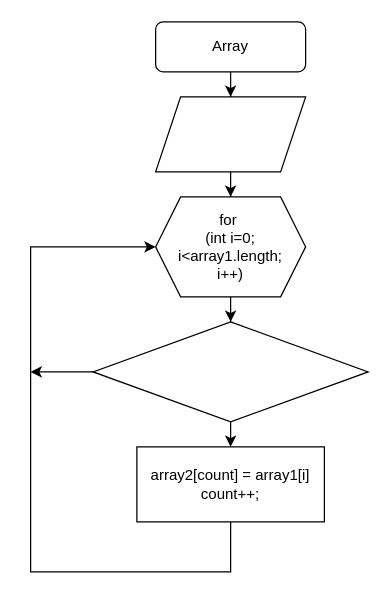
Image size: 390x604. Some labels were removed from this diagram. Here are the shapes that lost their labels. From the top down, the centre of each, then its label:
At [230,134]: "string array 1 string array 2 int count =0".
At [230,371]: "if (array1[i].length <=3)".
